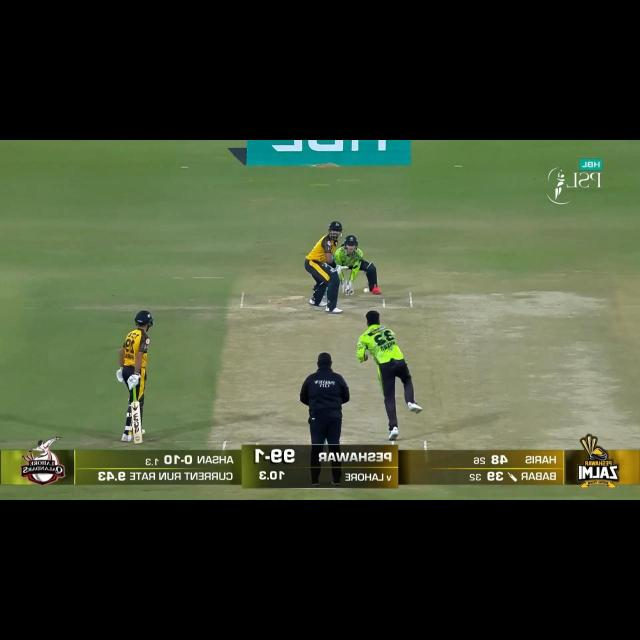bat: (130, 403, 144, 444), (337, 266, 350, 271)
toe: (134, 438, 143, 443), (344, 266, 349, 270)
